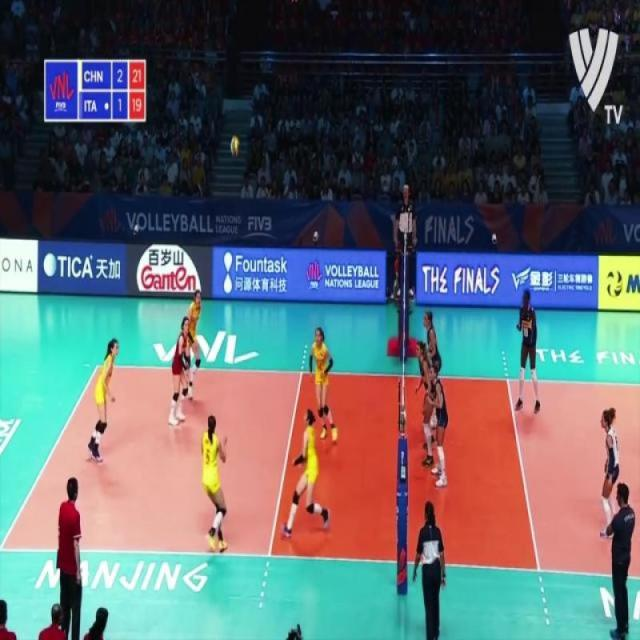volleyball: (606, 268, 623, 300), (228, 134, 240, 160)
